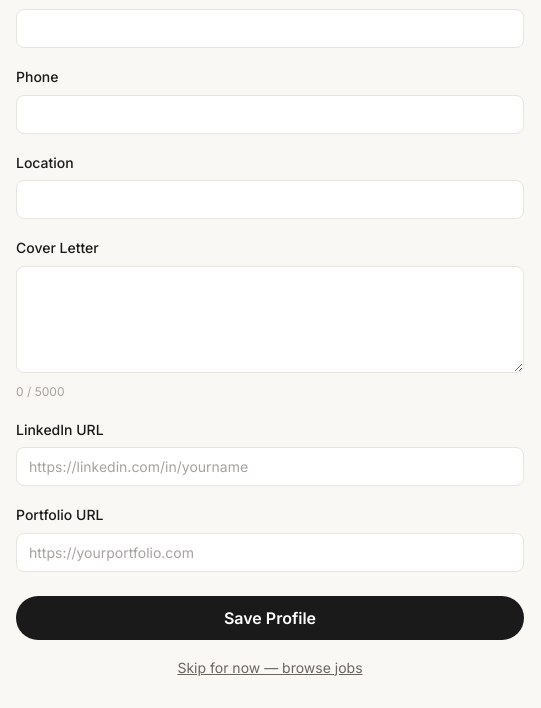
it: ProfileSetup › validates URL format for linkedin and portfolio (Req 1.4)
(page scrolled)
Type "not-a-url" into the field labelled "LinkedIn URL" at (270, 467), box 16,447 -> 524,486
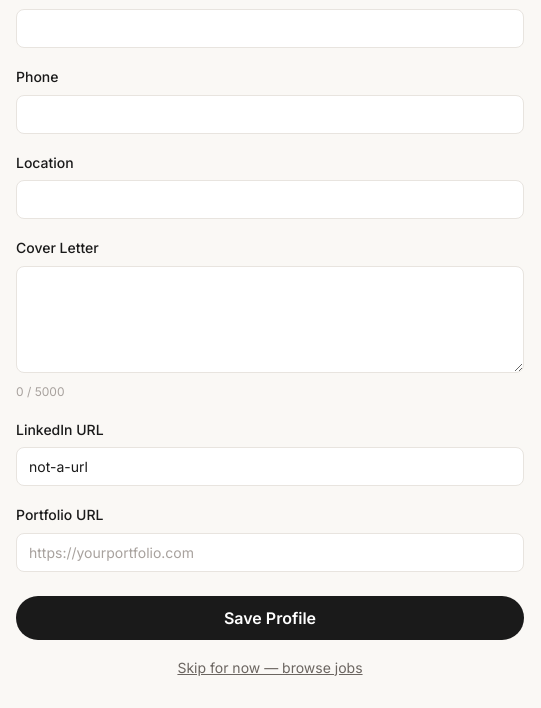
Type "also-bad" into the field labelled "Portfolio URL" at (270, 552), box 16,532 -> 524,572
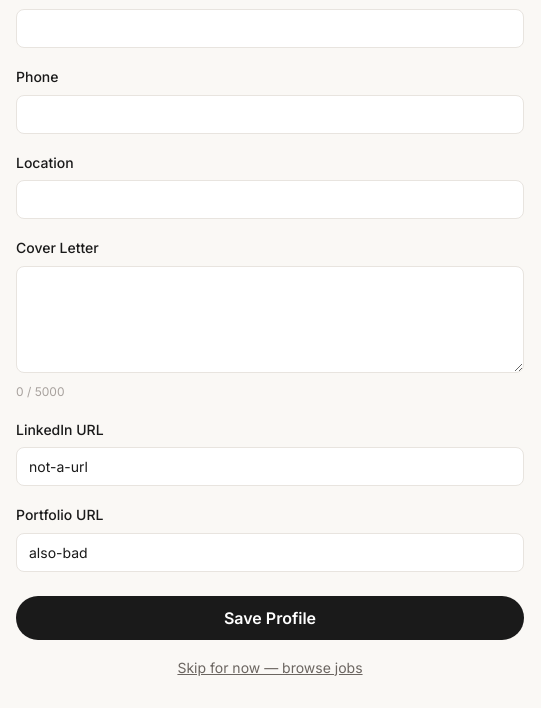
Click the button "Save Profile" at (270, 618), box 16,596 -> 524,640
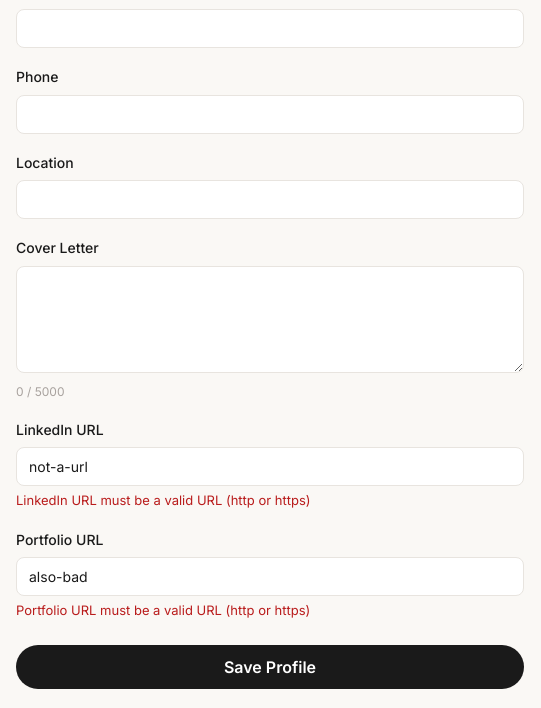
Now the text "LinkedIn URL must be a valid URL (http or https)" is shown 2 times, box 16,492 -> 311,508; 16,602 -> 310,618
